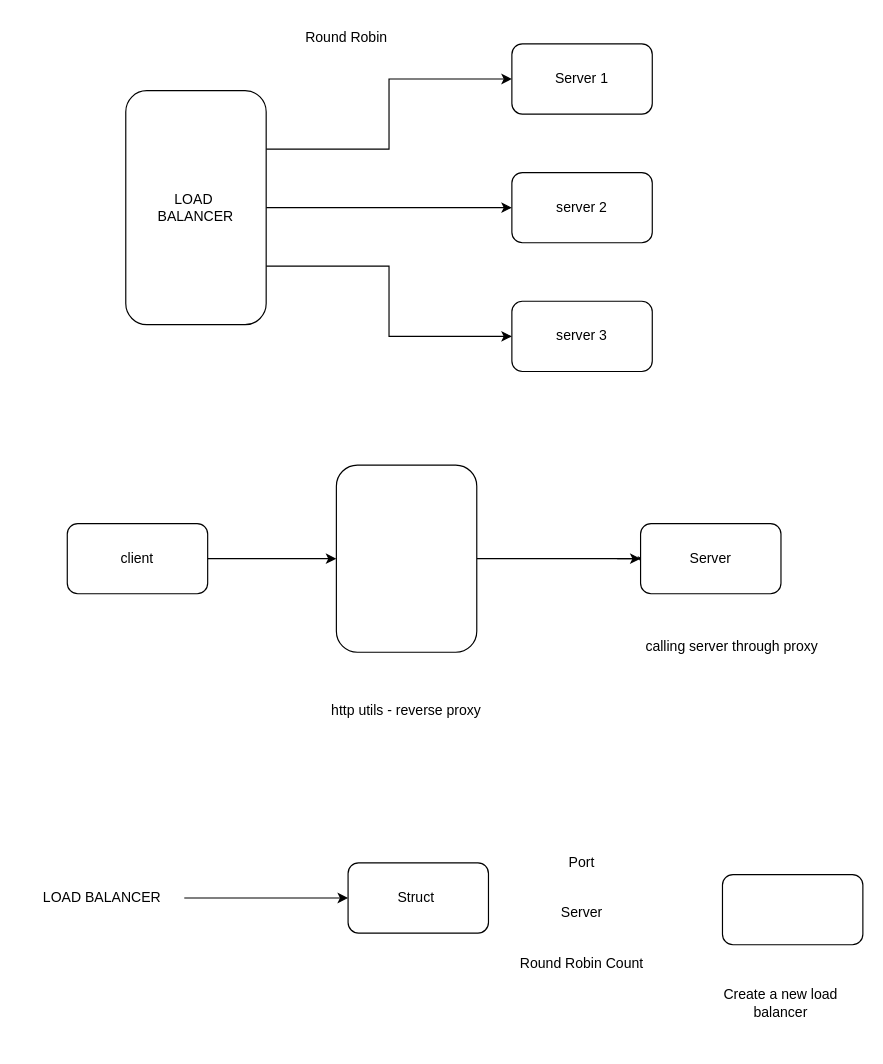
This 883x1064 diagram has some shape labels left out. The shapes that lost their labels are listed below. From the top down, each one's centre as x and y in pixels, then its label:
At (x=406, y=558): "Reverse Procy".
At (x=792, y=909): "Function".
